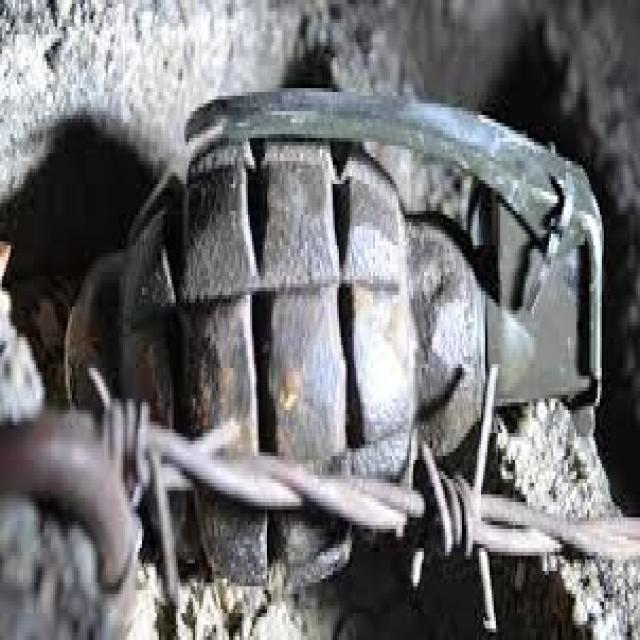grenade: (54, 79, 614, 598)
